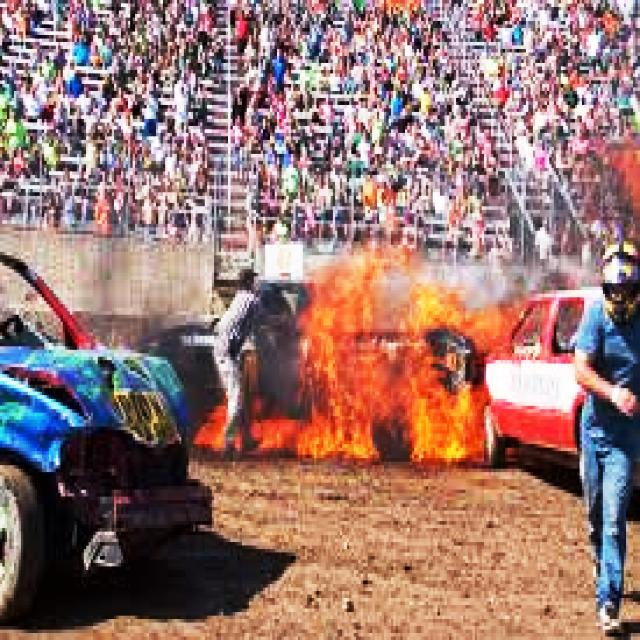api: (304, 256, 509, 473), (190, 379, 301, 473)
